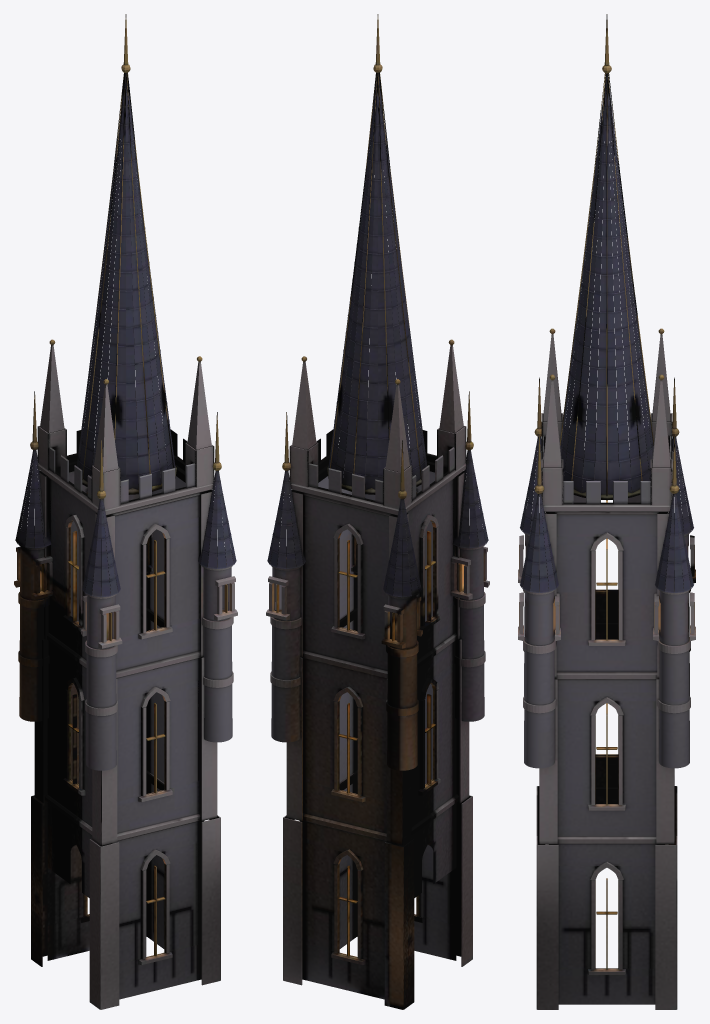
Rendered from expand_right_tower.glb.
3 renders of one model, left to right at view 1: azimuth 30°, elevation 25°; view 2: azimuth 150°, elevation 25°; view 3: azimuth 270°, elevation 25°, orthographic.
Visible parts, largest first — view 1: expand_right_tower_GI; view 2: expand_right_tower_GI; view 3: expand_right_tower_GI.
Boxes of the visible parts, bbox=[...] form: expand_right_tower_GI: bbox=[14, 14, 237, 1009]; expand_right_tower_GI: bbox=[266, 14, 489, 1009]; expand_right_tower_GI: bbox=[518, 14, 695, 1009].
Bounding box in the file's own units: 7.36 × 45 × 7.5.
Materials: 1 (1 with a texture image).
